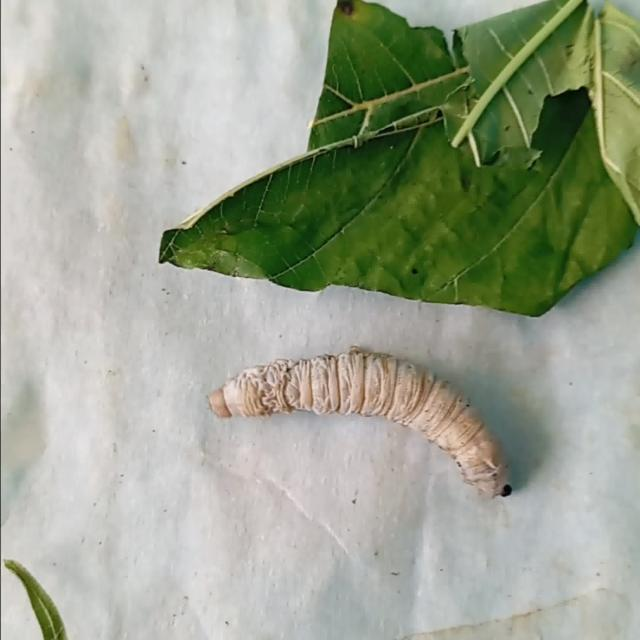Grasserie: (188, 316, 533, 520)
